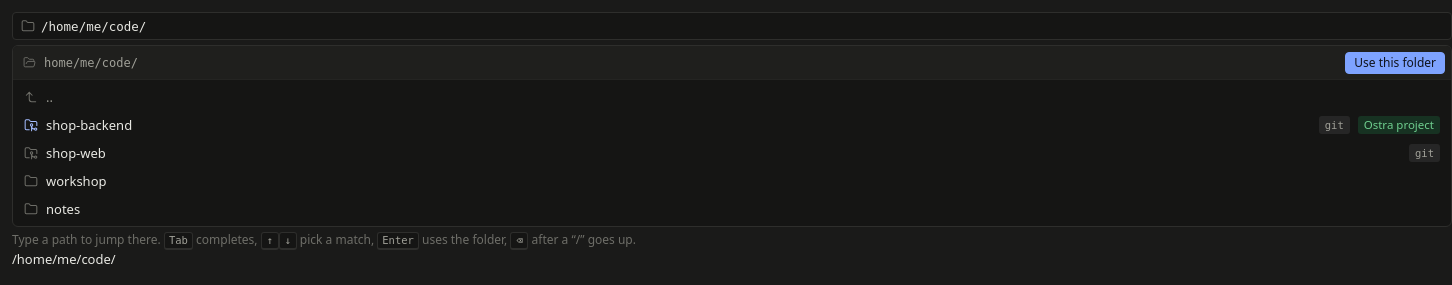
Test: FolderPicker, controlled browsing › opens a row on click and selects it on double-click
Click the text "notes": (63, 209) [46, 200, 80, 218]
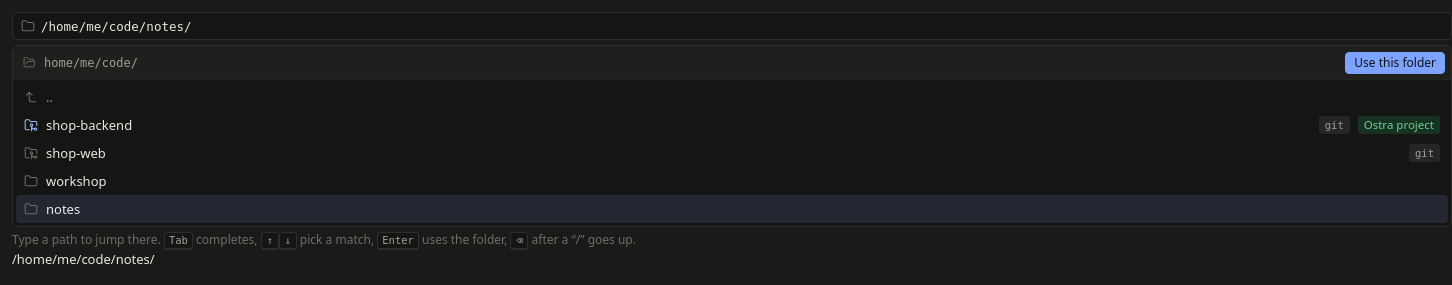
Expected: the text with test id "value" reads "/home/me/code/notes/", [12, 250, 155, 268]
Double-click the text "workshop": (76, 181) [46, 172, 106, 190]
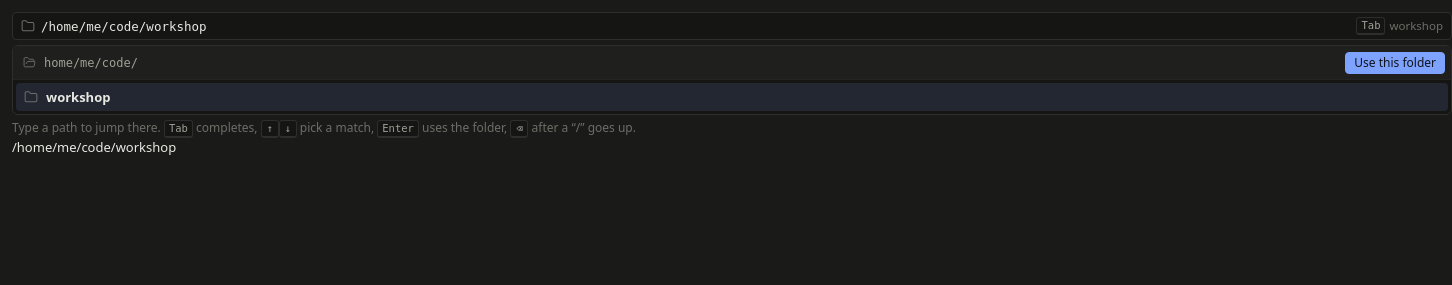
Expected: the text with test id "value" reads "/home/me/code/workshop", [12, 138, 176, 156]
